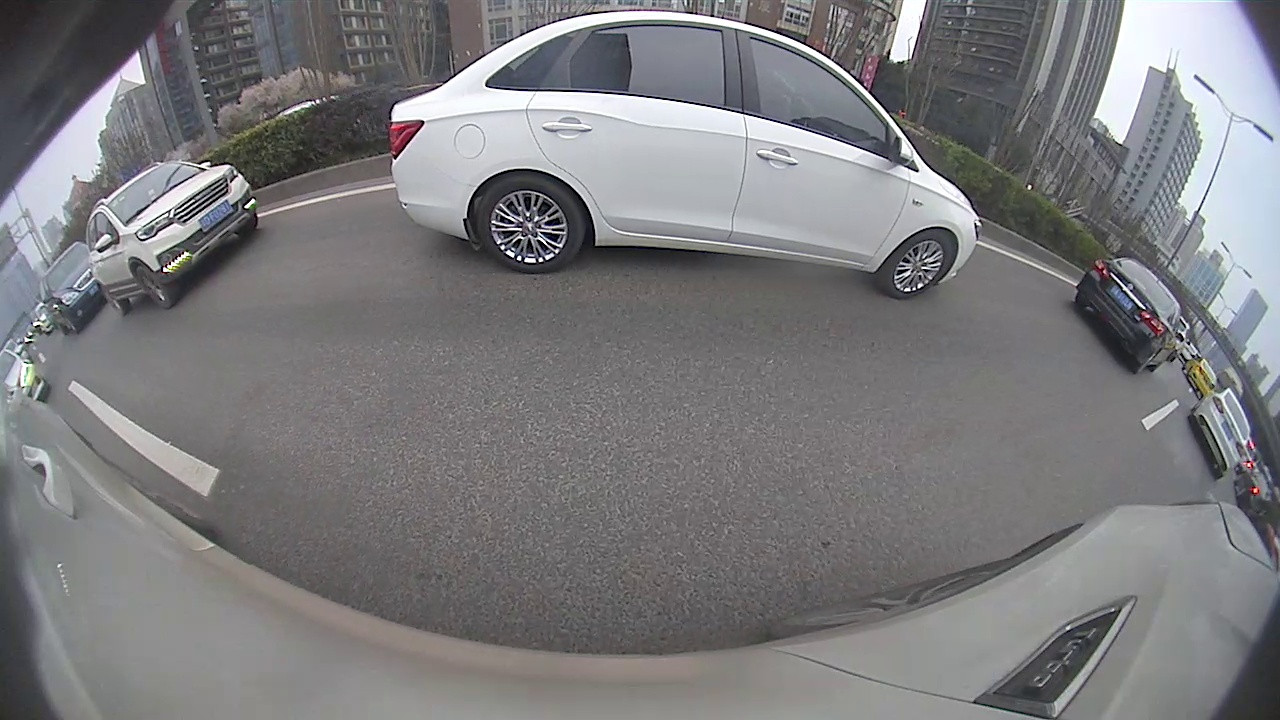car: (388, 14, 983, 299), (86, 157, 258, 314), (1073, 258, 1185, 373), (1190, 387, 1252, 480)
front: (882, 235, 958, 296), (129, 264, 171, 308)
rear: (475, 178, 579, 271)
